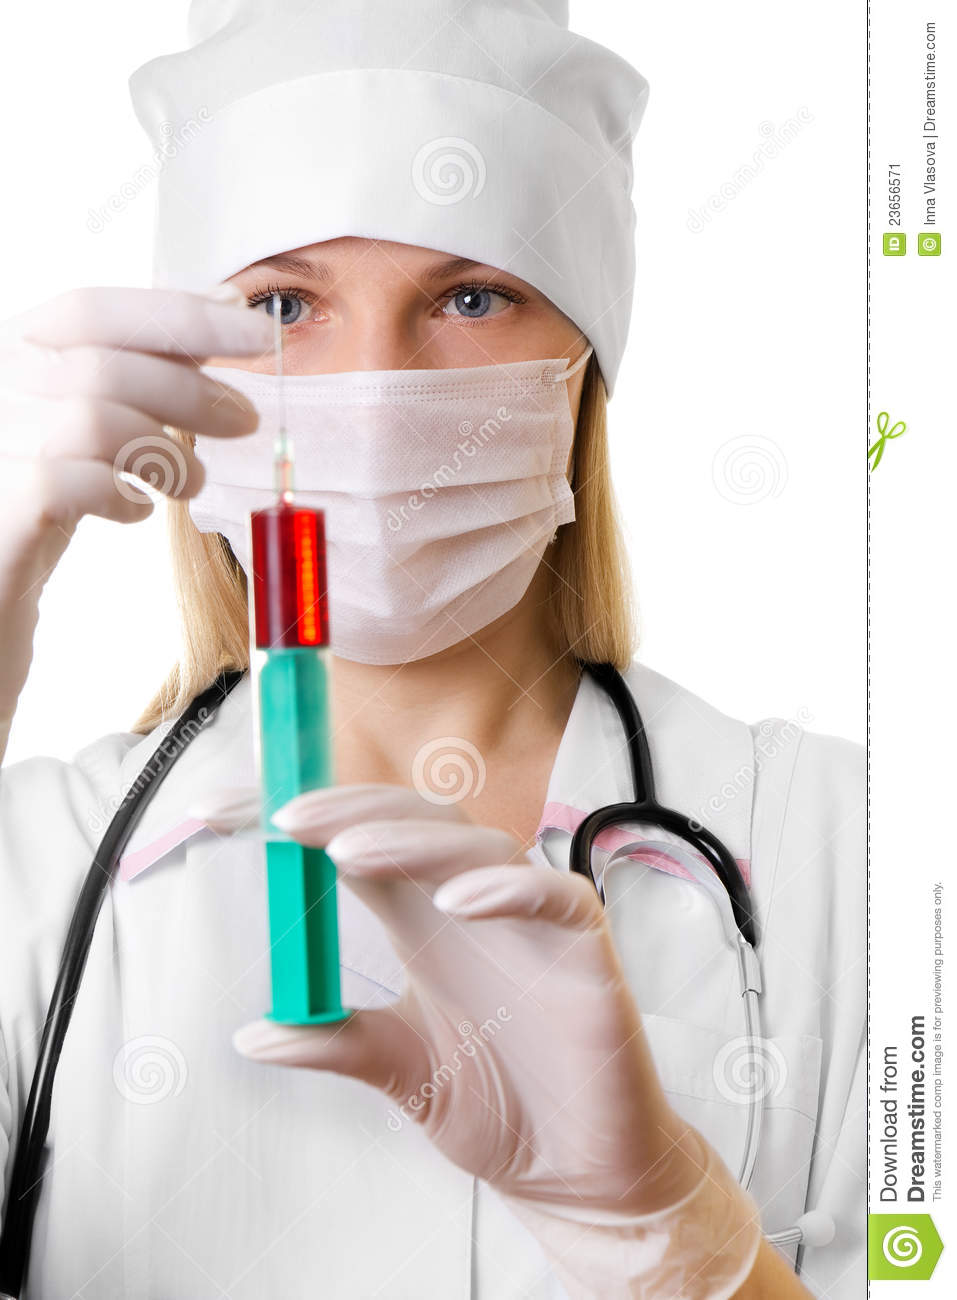mask: (178, 354, 574, 673)
